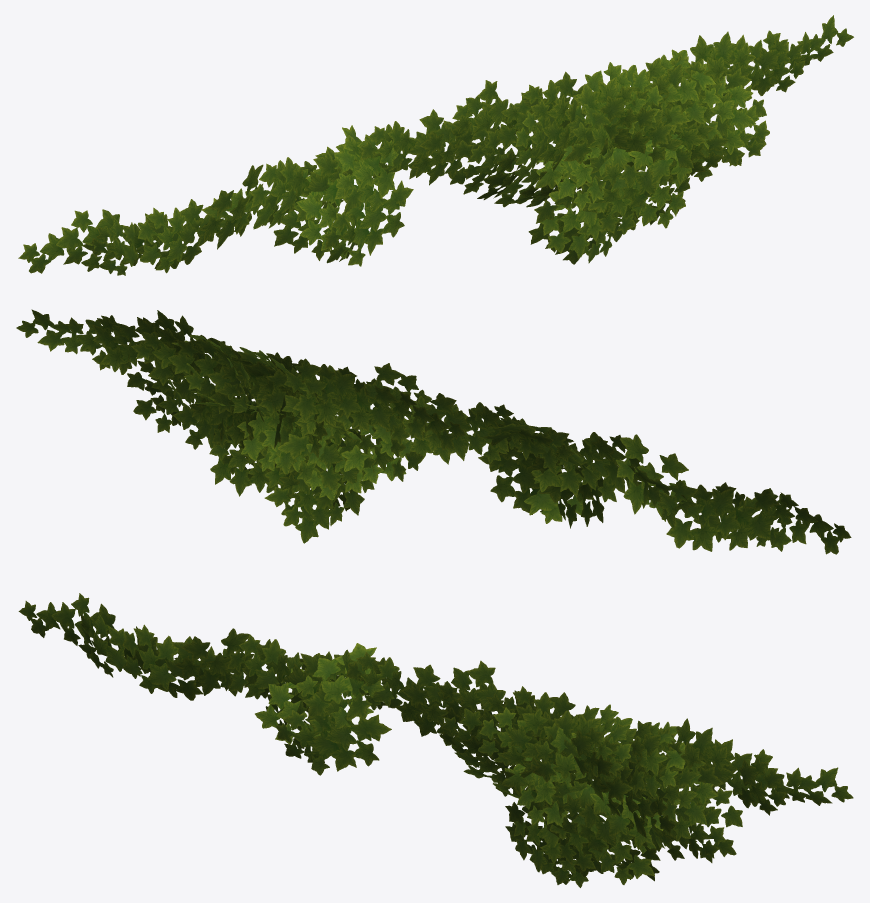
The model's file is SM_fwOF_IvyGroup_04.fbx.
The picture shows the model from 3 angles, top to bottom: view 1: azimuth 30°, elevation 25°; view 2: azimuth 150°, elevation 25°; view 3: azimuth 330°, elevation 25°; orthographic projection.
Parts seen in each view (by area): view 1: SM_fwOF_IvyGroup_04_LOD0; view 2: SM_fwOF_IvyGroup_04_LOD0; view 3: SM_fwOF_IvyGroup_04_LOD0.
Boxes of the visible parts, x1=… form: SM_fwOF_IvyGroup_04_LOD0: x1=18, y1=15, x2=853, y2=275; SM_fwOF_IvyGroup_04_LOD0: x1=16, y1=309, x2=851, y2=554; SM_fwOF_IvyGroup_04_LOD0: x1=18, y1=593, x2=853, y2=887.
Size of what is drawn, in the model's own units: 6.5 by 1.53 by 0.5603.
